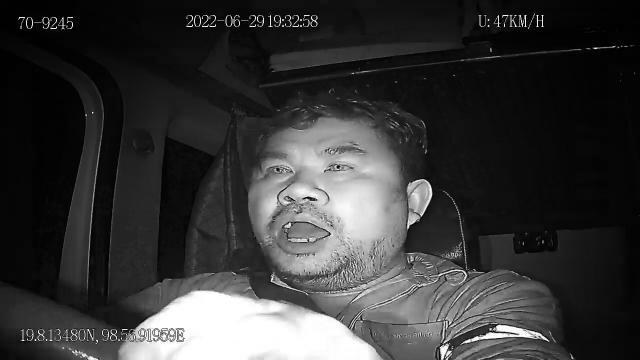SafeDriving: (316, 149, 362, 179), (258, 154, 296, 182)
Seatbelt: (246, 272, 328, 316)
